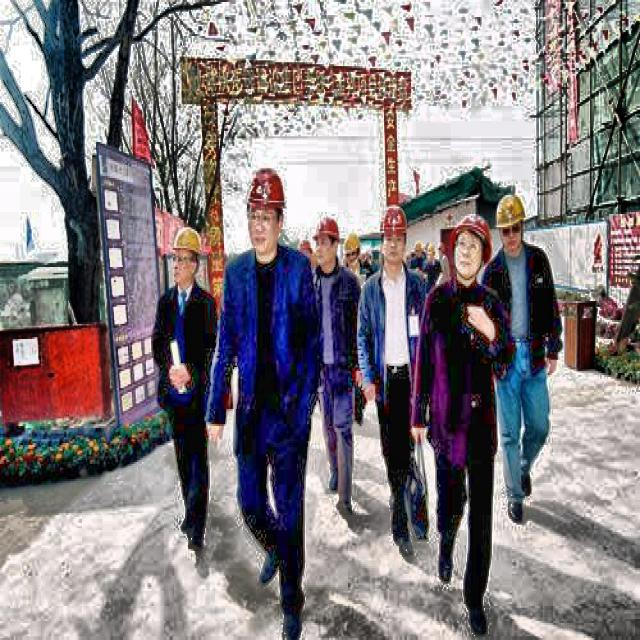helmet: (244, 162, 286, 255), (453, 212, 493, 282), (493, 188, 525, 258), (380, 201, 411, 269), (174, 220, 205, 288), (315, 212, 343, 271), (342, 227, 364, 271)
